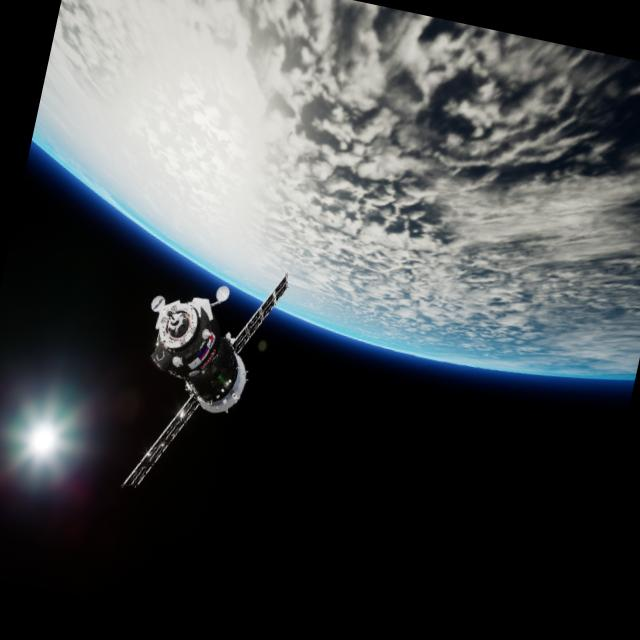Satellites revolving around earth: (110, 244, 292, 515)
